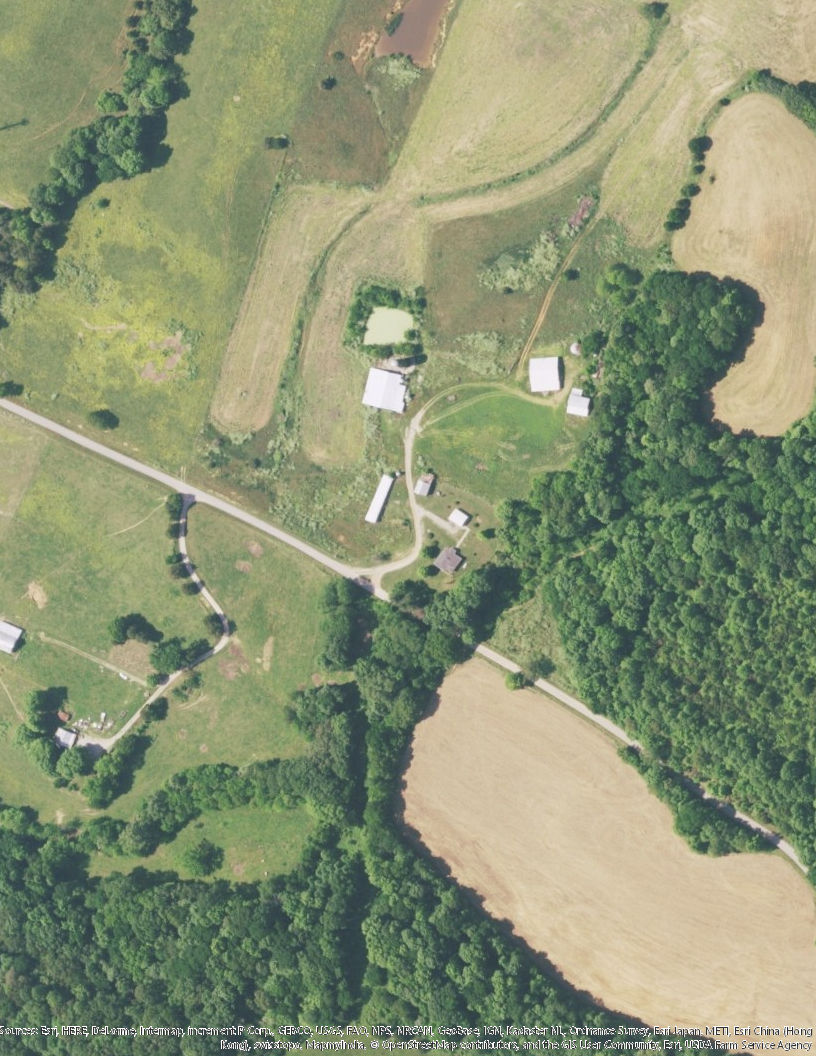cafo: (360, 470, 397, 526)
